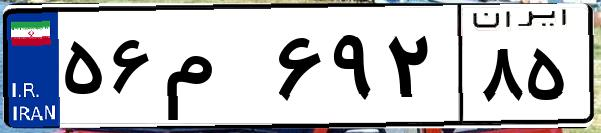2: (385, 28, 445, 110)
5: (57, 26, 110, 100), (525, 38, 570, 115)
6: (270, 28, 330, 110), (110, 28, 158, 98)
8: (475, 38, 525, 113)
9: (330, 28, 385, 110)
م: (158, 20, 270, 120)
